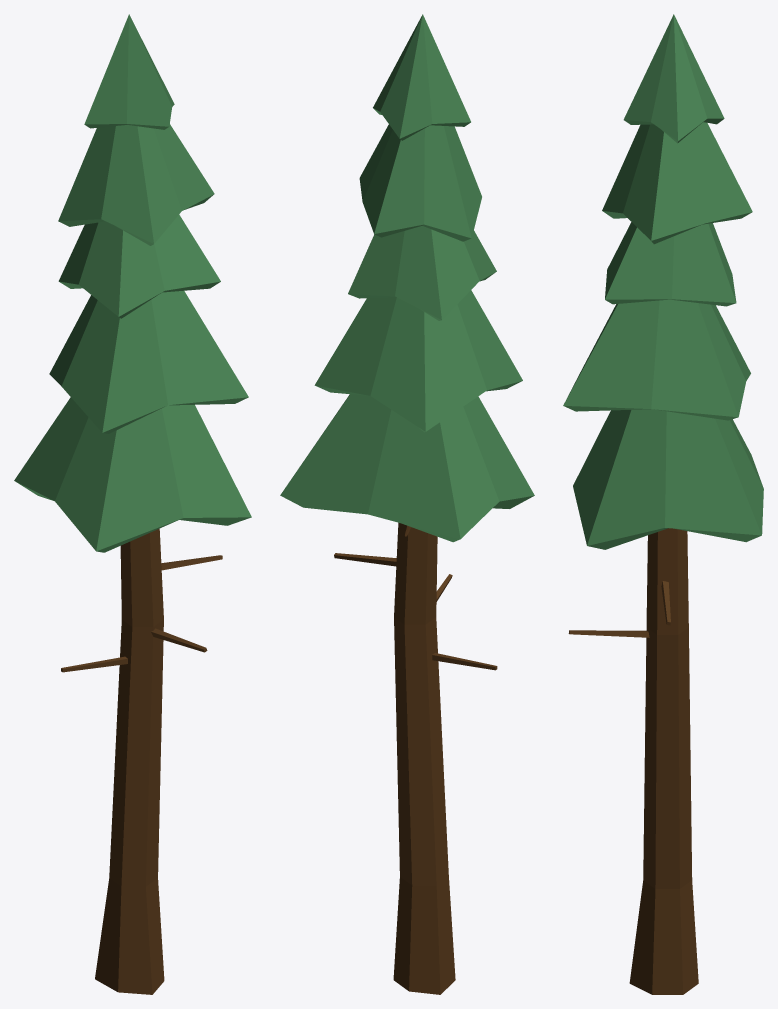
The model's file is tree4.glb.
3 renders of one model, left to right at view 1: azimuth 30°, elevation 25°; view 2: azimuth 150°, elevation 25°; view 3: azimuth 270°, elevation 25°, orthographic.
Parts seen in each view (by area): view 1: Tree5_4; view 2: Tree5_4; view 3: Tree5_4.
Boxes of the visible parts, x1=… form: Tree5_4: x1=14, y1=14, x2=251, y2=994; Tree5_4: x1=280, y1=14, x2=534, y2=994; Tree5_4: x1=563, y1=14, x2=763, y2=994.
Size of the model in its own units: 1.32 by 6.97 by 1.31.
